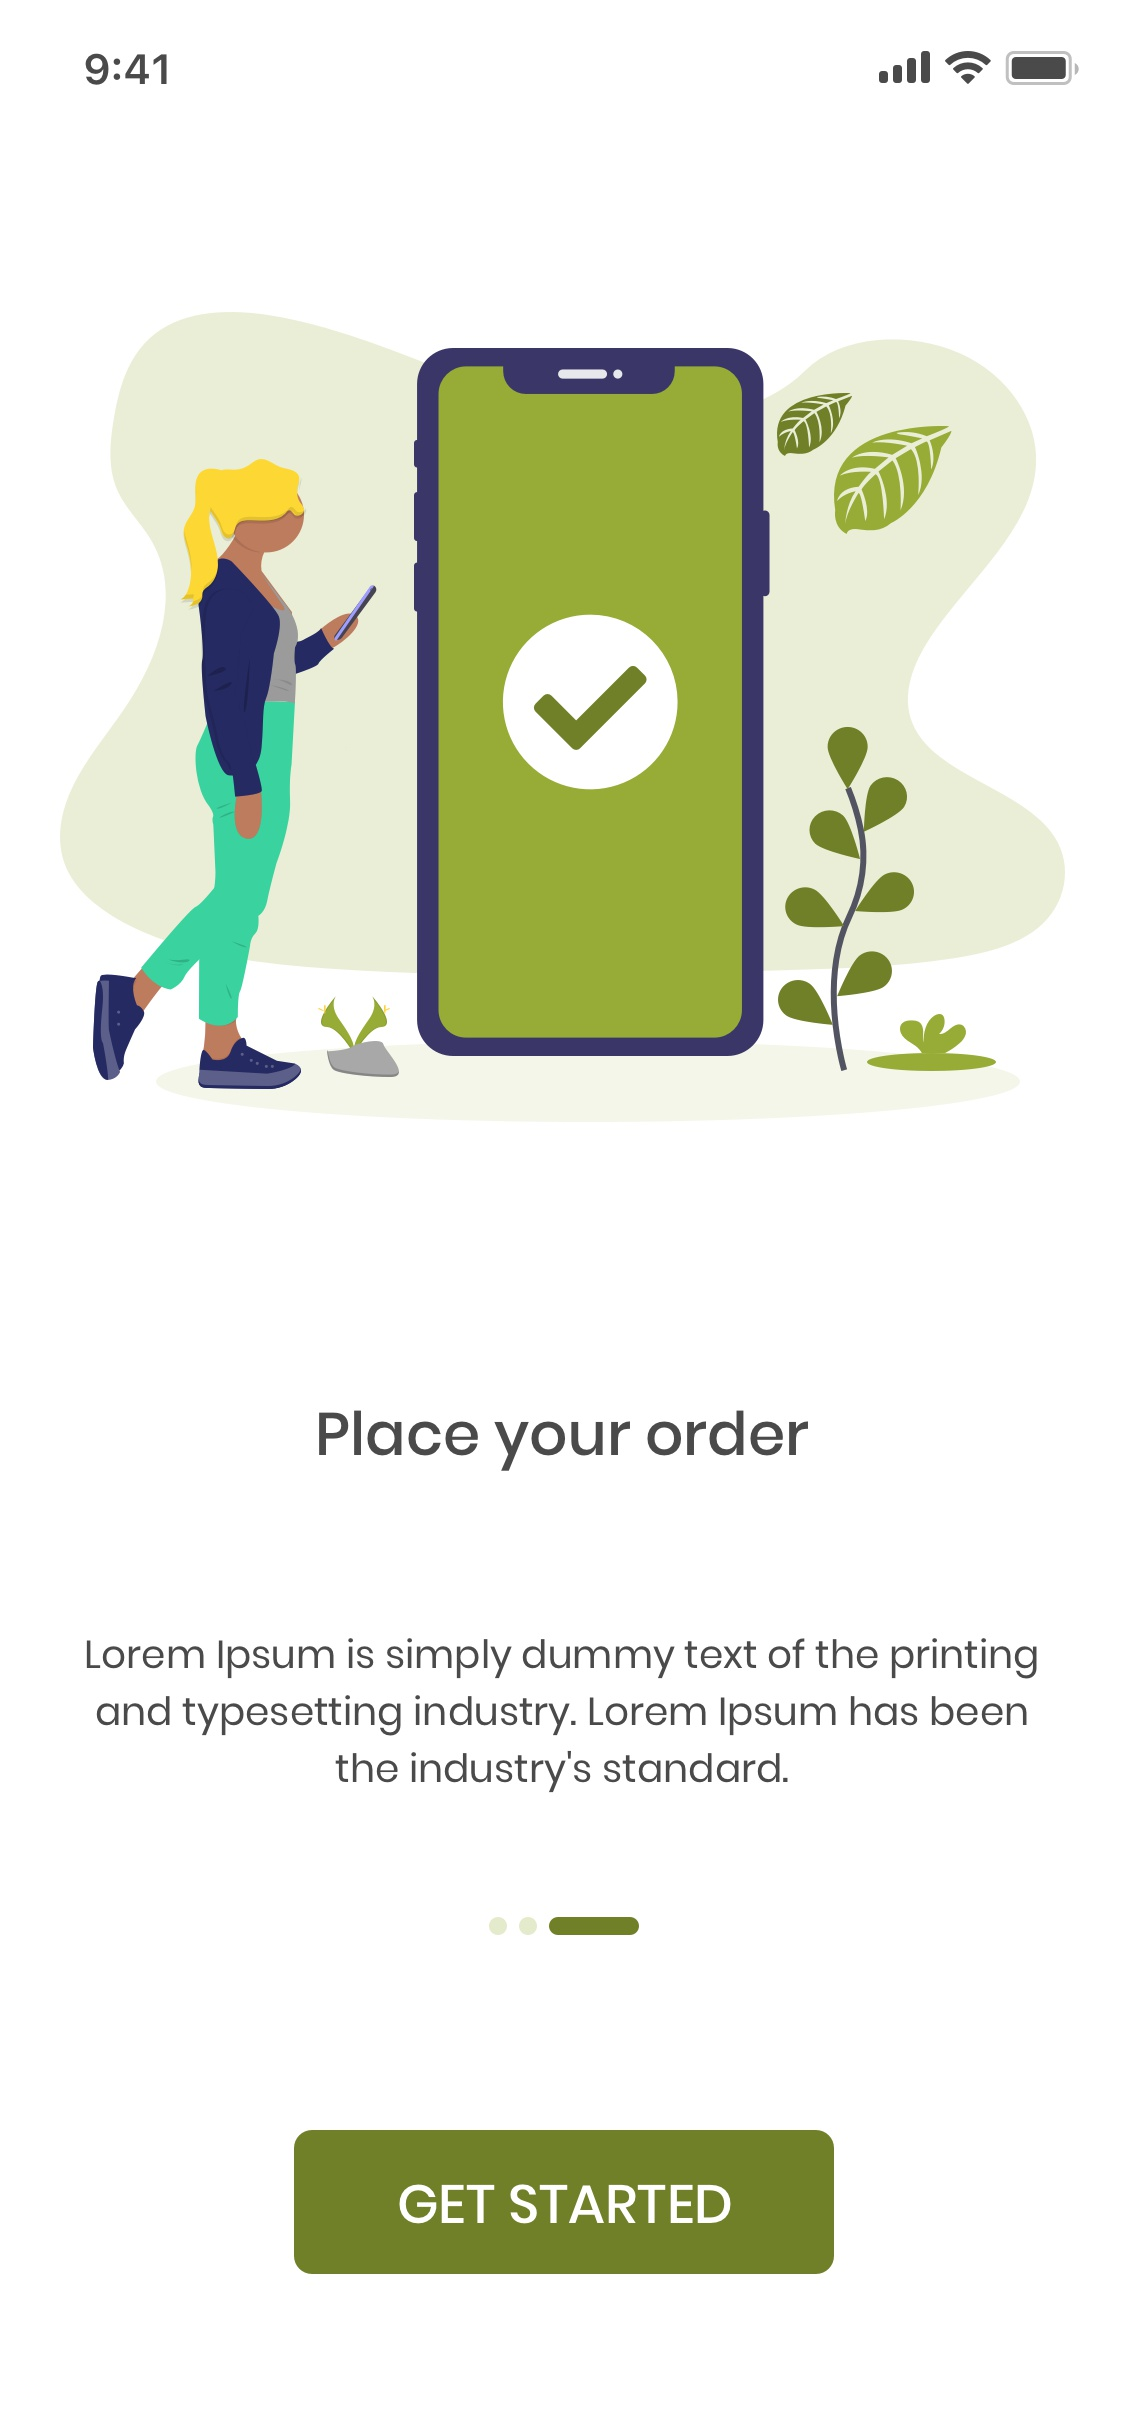Image: (61, 311, 1066, 1123)
PageIndicator: (488, 1916, 642, 1936)
Text: (87, 1637, 1038, 1794), (319, 1409, 810, 1471)
TextButton: (294, 2130, 834, 2274)
UpperTaskBar: (85, 51, 1080, 87)
